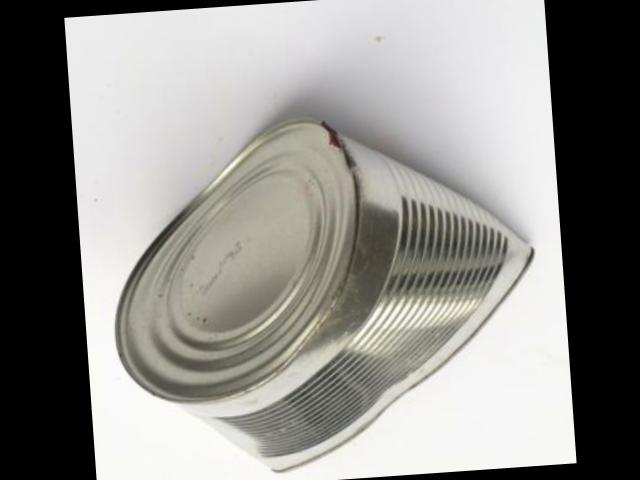metal: (114, 121, 529, 471)
